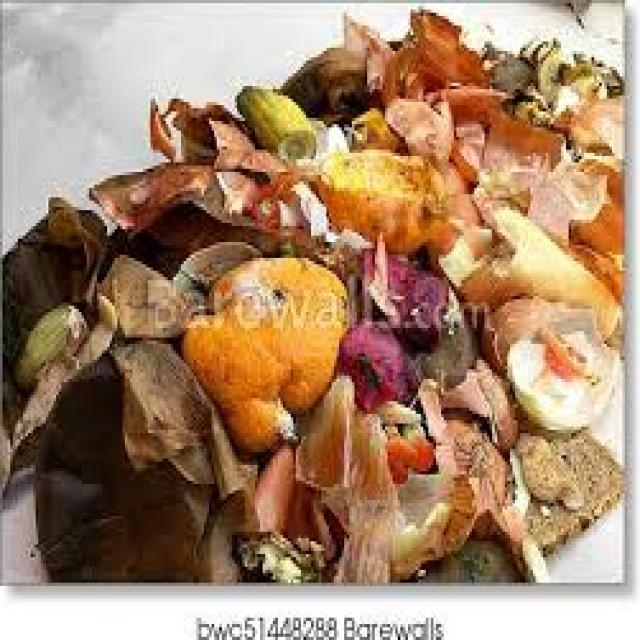organic waste: (36, 334, 258, 580), (0, 191, 112, 494), (178, 255, 347, 442), (110, 334, 255, 513), (288, 369, 400, 583), (86, 159, 318, 258), (342, 245, 479, 392), (482, 188, 617, 337), (484, 38, 638, 137), (505, 423, 622, 548), (416, 373, 502, 538), (502, 315, 617, 427), (380, 462, 495, 573), (316, 147, 446, 245), (245, 436, 339, 564), (431, 76, 558, 169), (479, 293, 617, 372), (472, 436, 543, 583), (89, 248, 194, 347), (398, 3, 497, 96), (337, 315, 418, 417), (278, 38, 377, 108), (413, 516, 523, 576), (232, 83, 314, 159), (143, 96, 240, 159), (10, 299, 82, 382), (441, 210, 505, 303), (566, 153, 620, 258), (370, 395, 433, 484), (515, 426, 581, 509), (224, 526, 329, 576), (339, 3, 395, 96), (176, 236, 257, 299), (382, 92, 457, 160), (474, 134, 546, 197), (270, 181, 342, 242), (564, 89, 620, 153), (536, 322, 594, 382), (569, 239, 622, 299), (553, 48, 620, 92), (551, 58, 602, 109), (446, 108, 482, 178), (344, 99, 398, 143), (311, 111, 344, 153), (385, 38, 403, 61)
